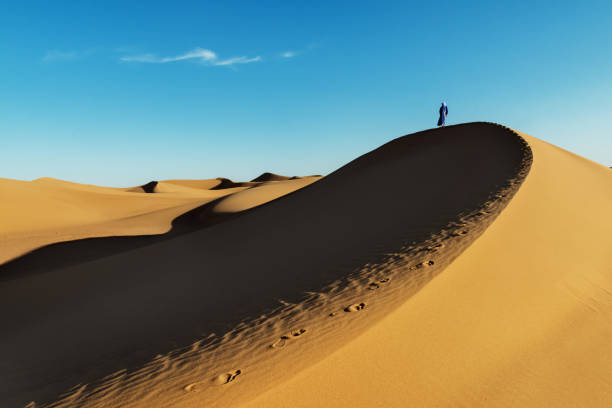human_foot_print: (271, 328, 306, 347), (212, 369, 241, 384), (213, 369, 240, 384), (368, 277, 389, 289), (410, 260, 434, 268), (344, 302, 365, 311), (183, 382, 201, 392), (426, 243, 444, 251), (450, 230, 467, 236), (368, 282, 379, 289), (379, 277, 389, 283), (328, 312, 335, 316)
